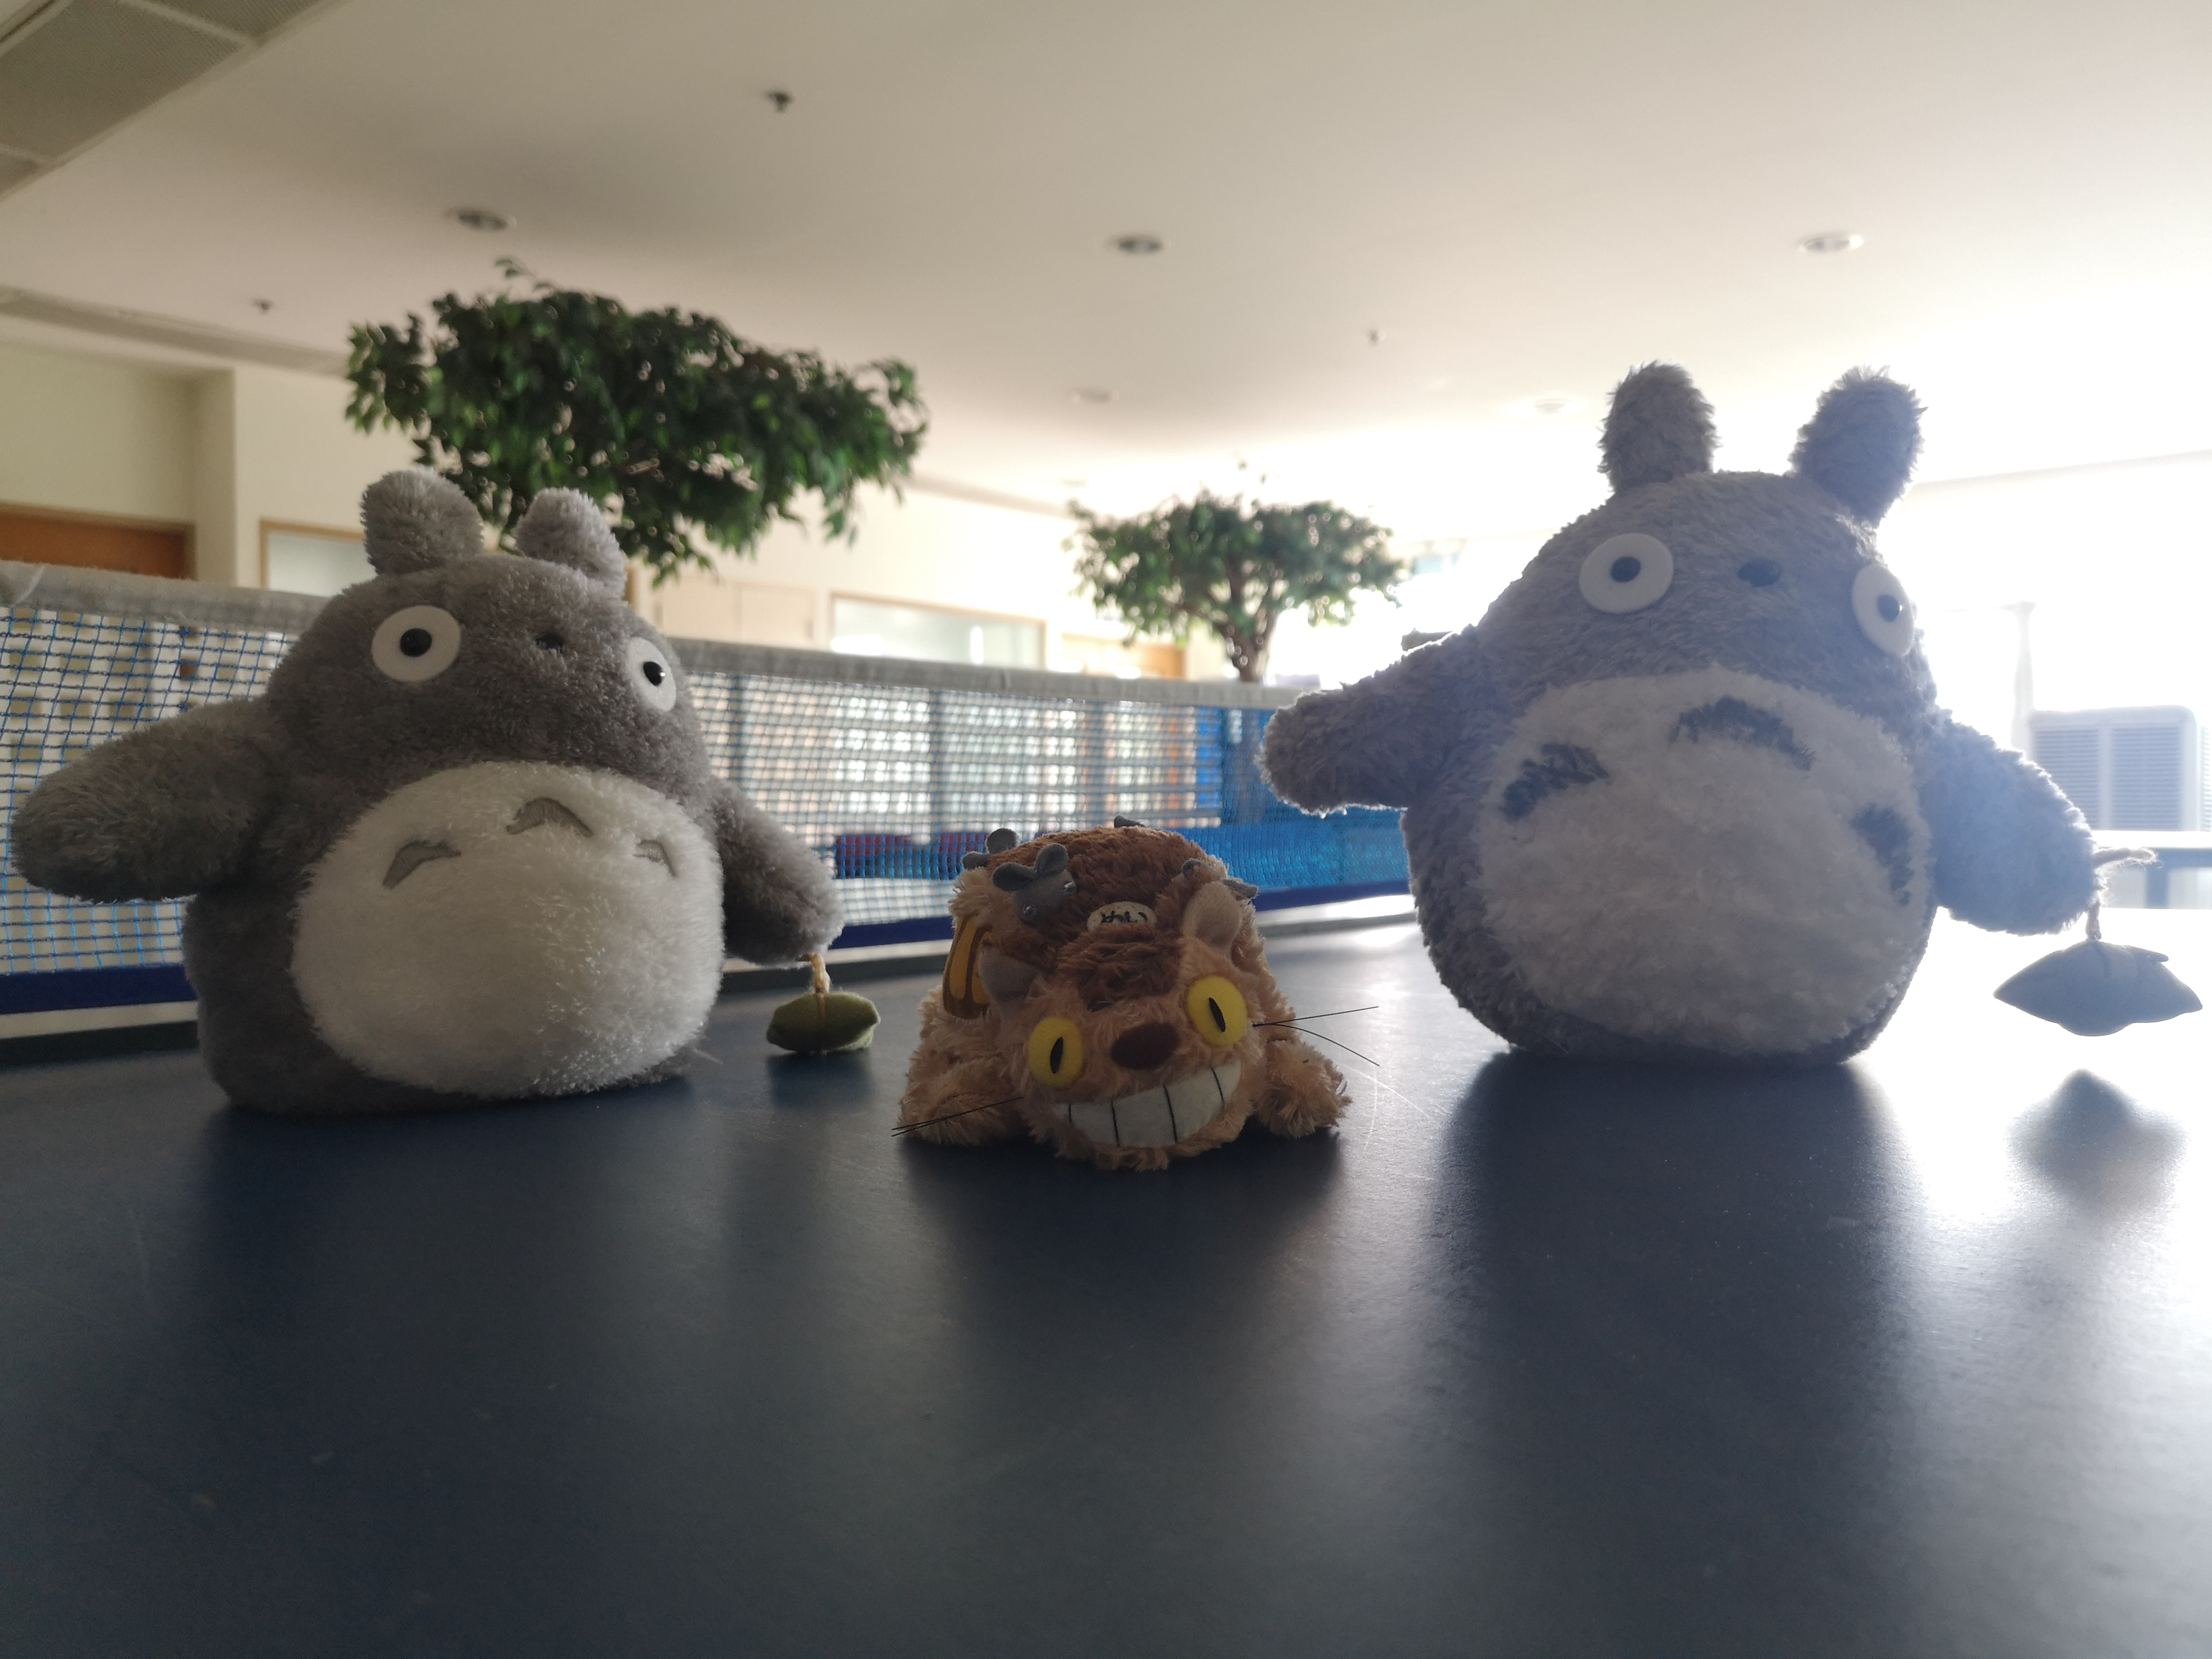nekobus: (894, 812, 1362, 1204)
totoro: (1247, 354, 2205, 1117), (9, 460, 890, 1136)
